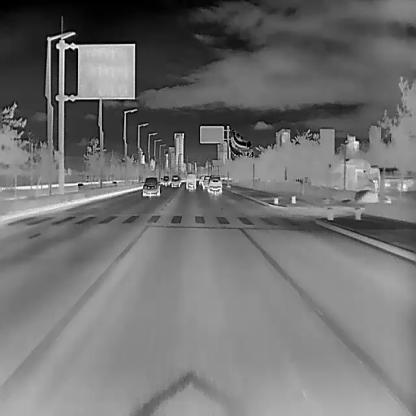car: (142, 176, 160, 197), (207, 174, 222, 193), (185, 173, 195, 190), (201, 174, 210, 189), (171, 174, 180, 187), (161, 175, 171, 186)
